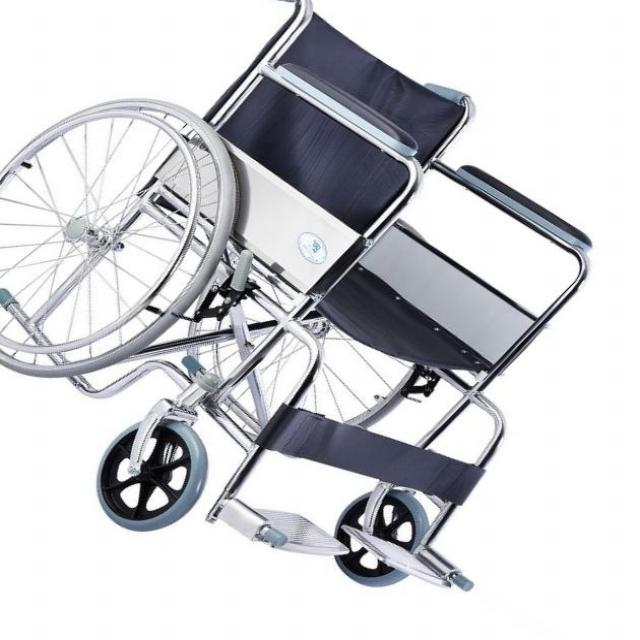wheelchair: (2, 0, 602, 607)
